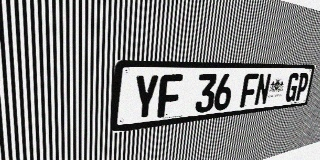3: (194, 74, 217, 113)
6: (213, 74, 234, 111)
F: (157, 74, 183, 118), (240, 73, 259, 108)
G: (284, 73, 300, 102)
N: (254, 73, 272, 106)
P: (294, 73, 310, 101)
Y: (132, 74, 160, 121)
